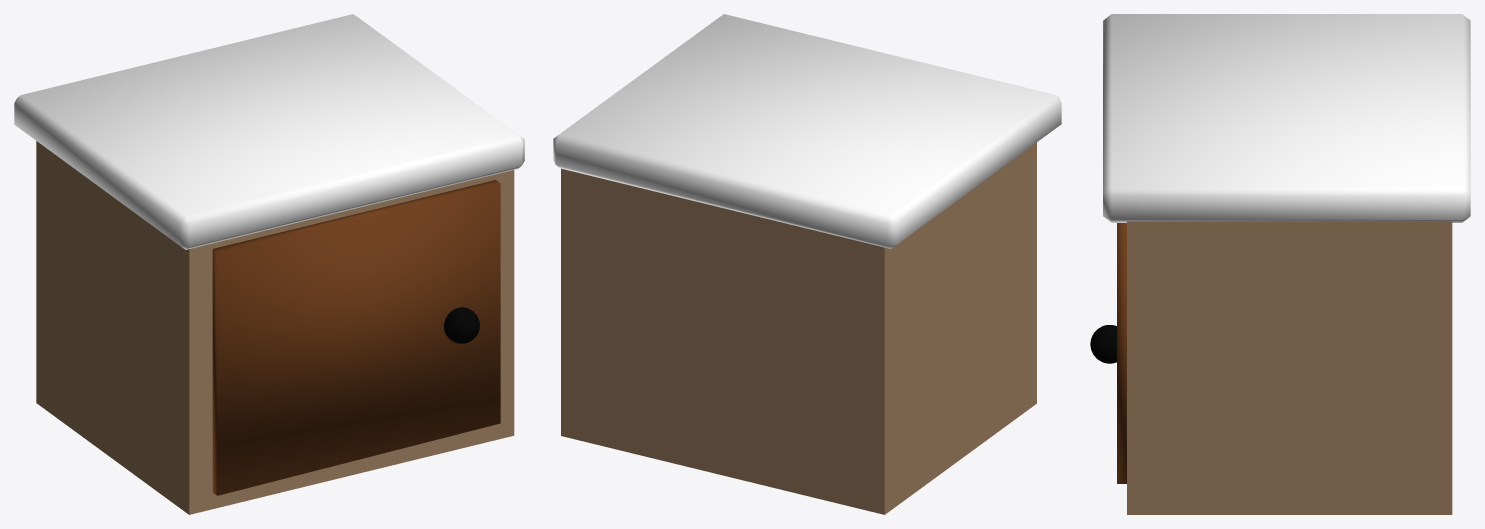
The model's file is cube_left.glb.
3 renders of one model, left to right at view 1: azimuth 30°, elevation 25°; view 2: azimuth 150°, elevation 25°; view 3: azimuth 270°, elevation 25°, orthographic. The views are drawn at different scales.
Parts seen in each view (by area): view 1: Cylinder.001; view 2: Cylinder.001; view 3: Cylinder.001.
Boxes of the visible parts, x1,y1,x2,y2 form: Cylinder.001: (14, 14, 524, 514); Cylinder.001: (553, 14, 1061, 514); Cylinder.001: (1090, 14, 1470, 514).
Bounding box in the file's own units: 2.61 × 2.22 × 2.34.
